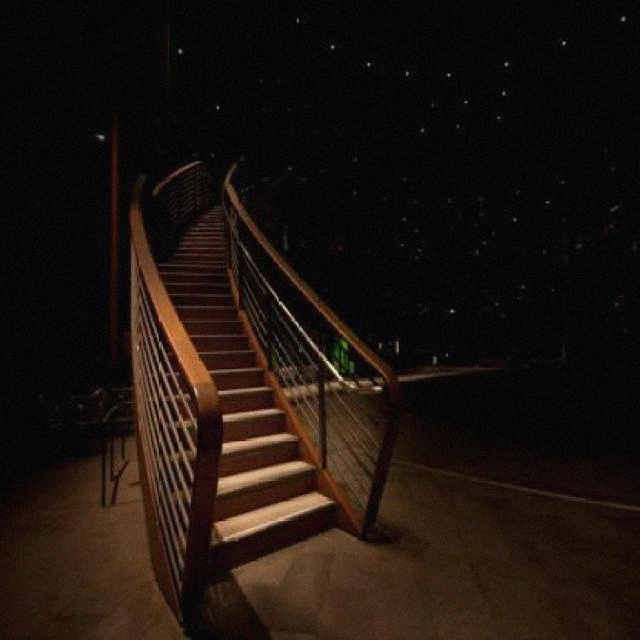stair: (137, 185, 341, 592)
